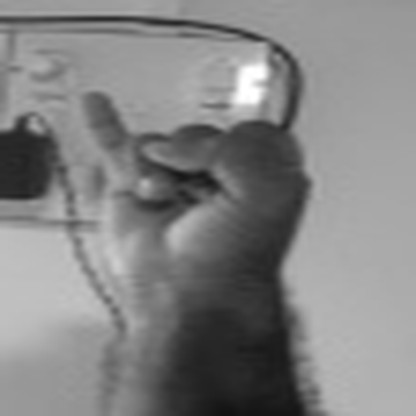i: (50, 78, 319, 302)
